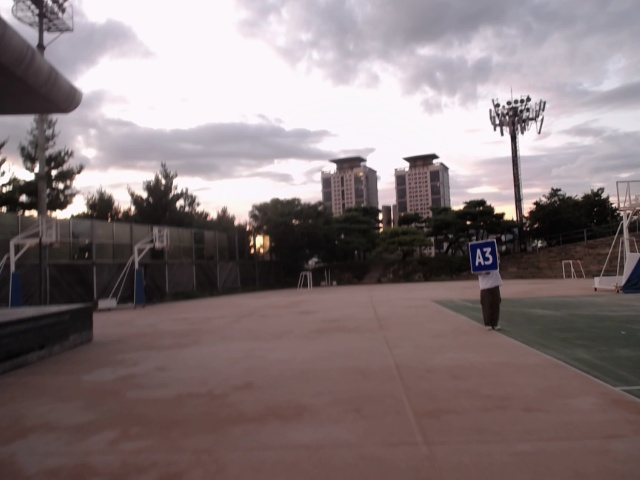delivery_a3: (467, 241, 499, 272)
